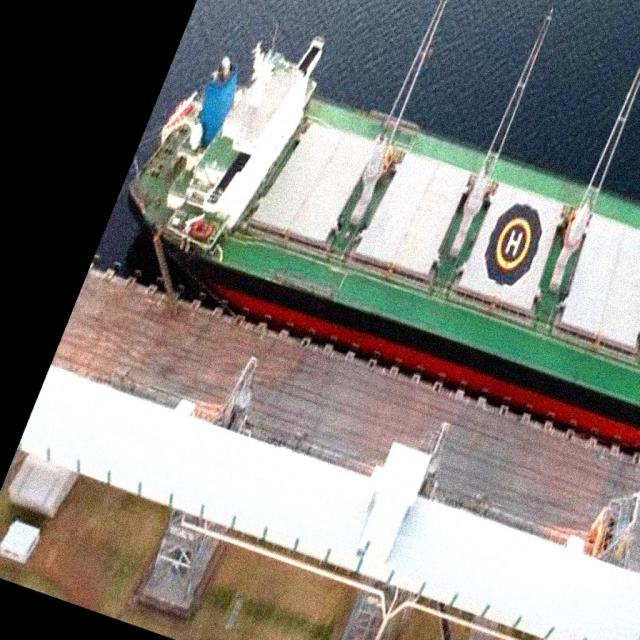helipad: (493, 216, 531, 270)
